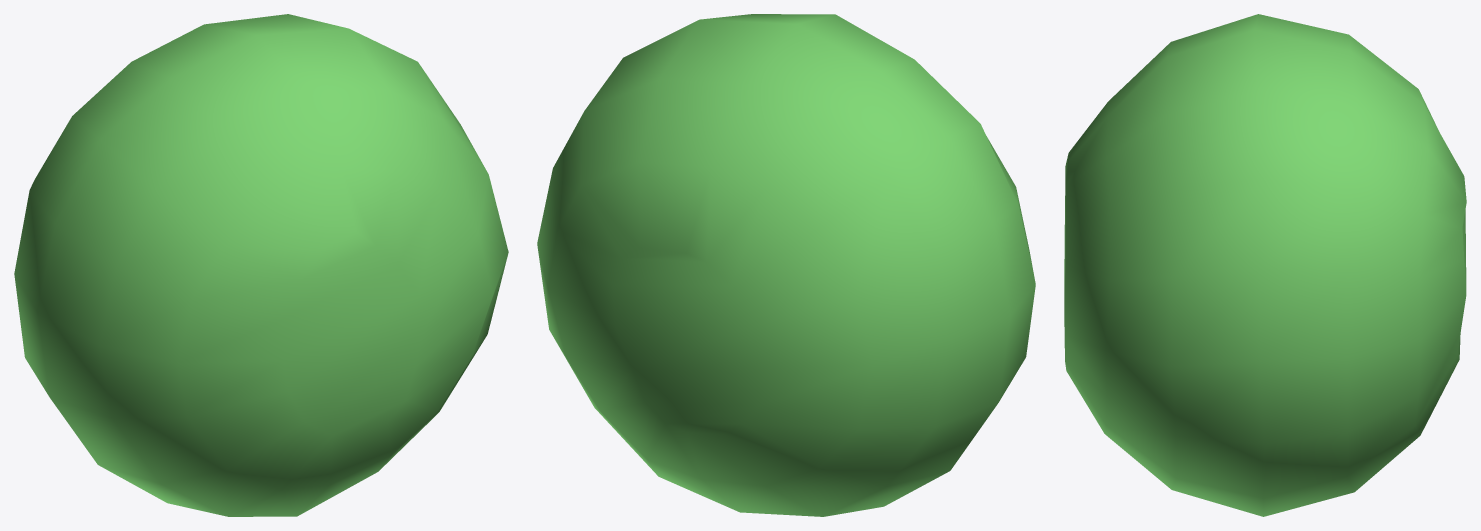
The model's file is coral03.fbx.
The picture shows the model from 3 angles, left to right: view 1: azimuth 30°, elevation 25°; view 2: azimuth 150°, elevation 25°; view 3: azimuth 270°, elevation 25°; orthographic projection. The views are drawn at different scales.
Visible parts, largest first — view 1: Coral03; view 2: Coral03; view 3: Coral03.
Part boxes in pixels (x1=…): Coral03: x1=14, y1=14, x2=508, y2=516; Coral03: x1=537, y1=14, x2=1035, y2=516; Coral03: x1=1064, y1=14, x2=1466, y2=516.
Size of the model in its own units: 666 by 683 by 534.
